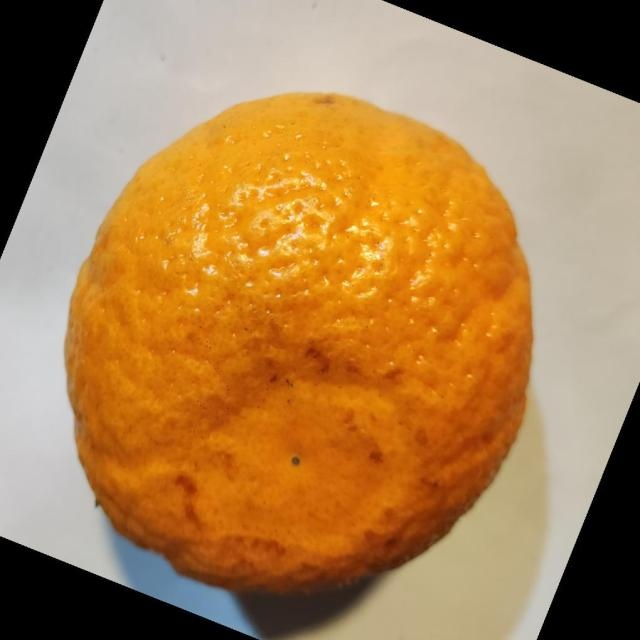agrume: (62, 89, 534, 596)
